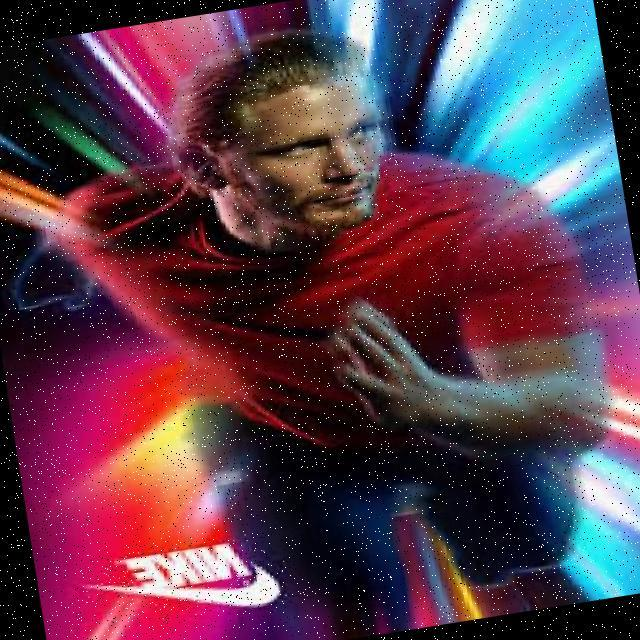Nike: (81, 529, 292, 631)
